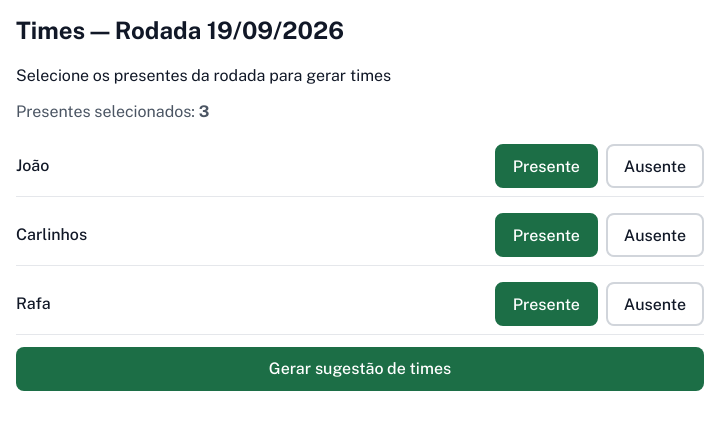
Test: MontagemTimesShell › gerar sugestão com sucesso (status='ok') mostra os times lado a lado
Expected: the heading "Times — Rodada 19/09/2026" is shown, [16,16,344,44]
Click the button "Gerar sugestão de times": (360, 369) [16,347,704,391]
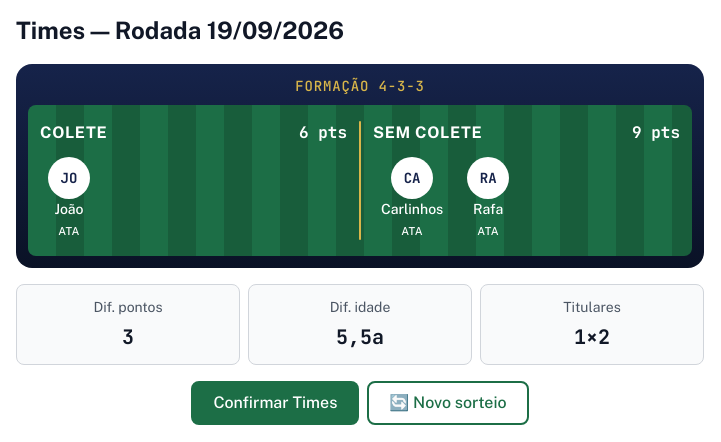
Expected: the heading "Colete" is shown, [40,121,107,145]
Expected: the heading "Sem Colete" is shown, [373,121,482,145]
